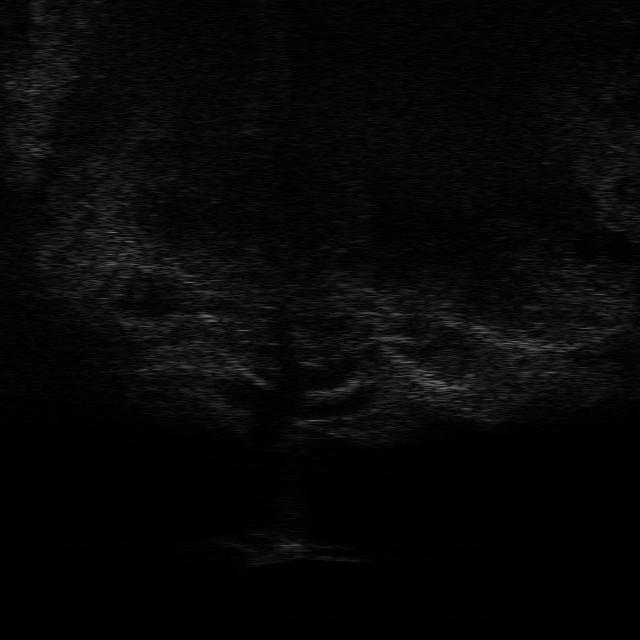plane: (218, 531, 368, 567)
